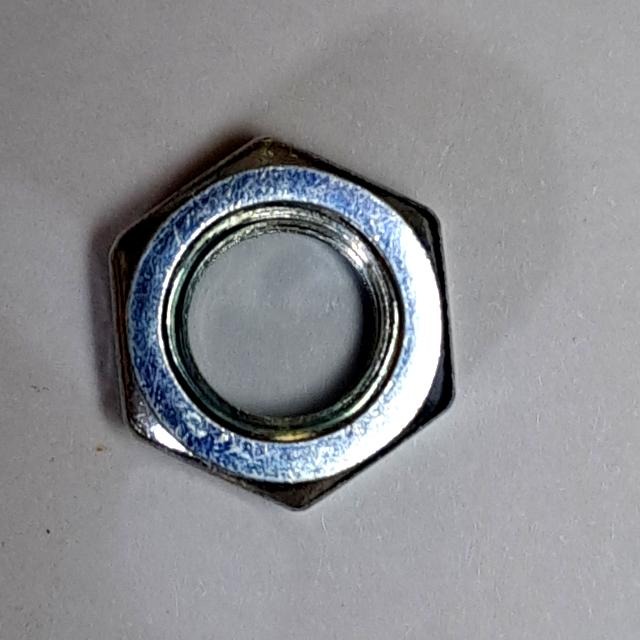Excellent: (96, 119, 472, 522)
